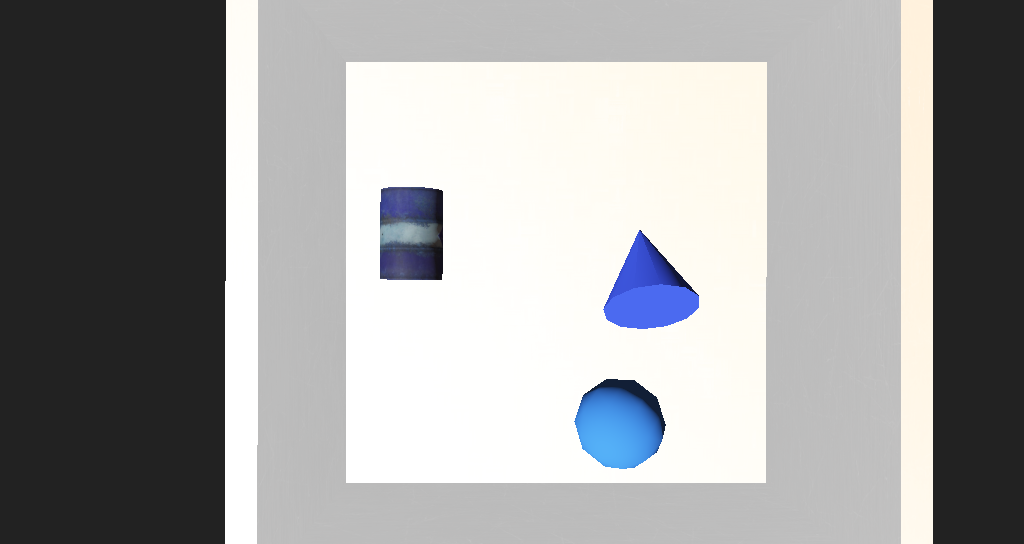cone: (381, 224, 428, 272)
cylinder: (532, 236, 600, 298)
sphere: (522, 322, 583, 365)
